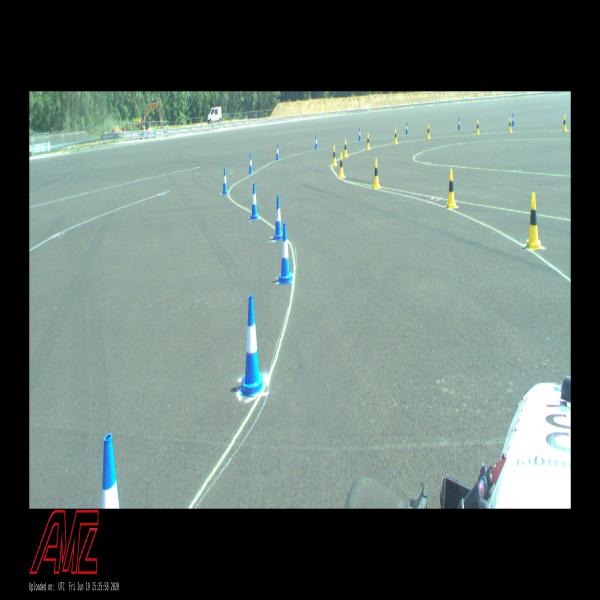blue_cone: (239, 295, 265, 394), (102, 434, 120, 508), (278, 223, 292, 283), (274, 196, 283, 239), (250, 183, 258, 219), (222, 168, 228, 194), (249, 154, 253, 174), (276, 144, 280, 161), (315, 136, 318, 150), (358, 128, 361, 141), (512, 113, 514, 126), (458, 117, 460, 130), (406, 123, 408, 134)
yellow_cone: (526, 192, 542, 248), (445, 169, 457, 208), (372, 159, 380, 189), (338, 153, 344, 178), (332, 146, 337, 166), (344, 140, 348, 157), (394, 129, 398, 144), (426, 124, 430, 139), (366, 134, 370, 149), (563, 116, 567, 131), (476, 120, 480, 134), (508, 118, 512, 132)
